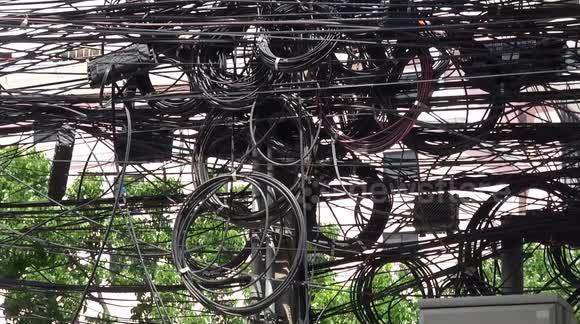wires: (257, 0, 579, 185)
